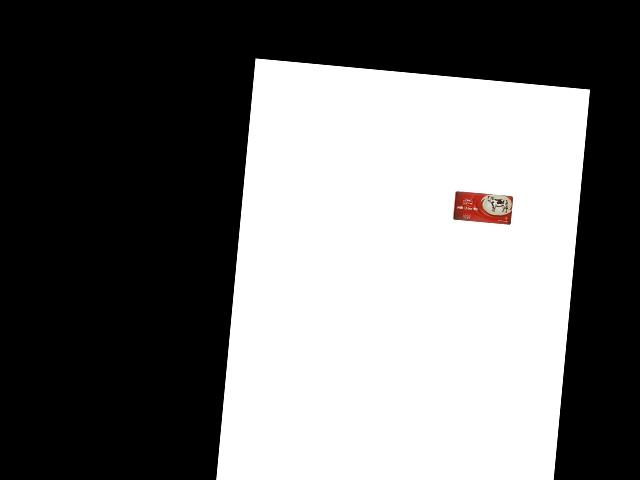chocolate: (451, 190, 513, 226)
